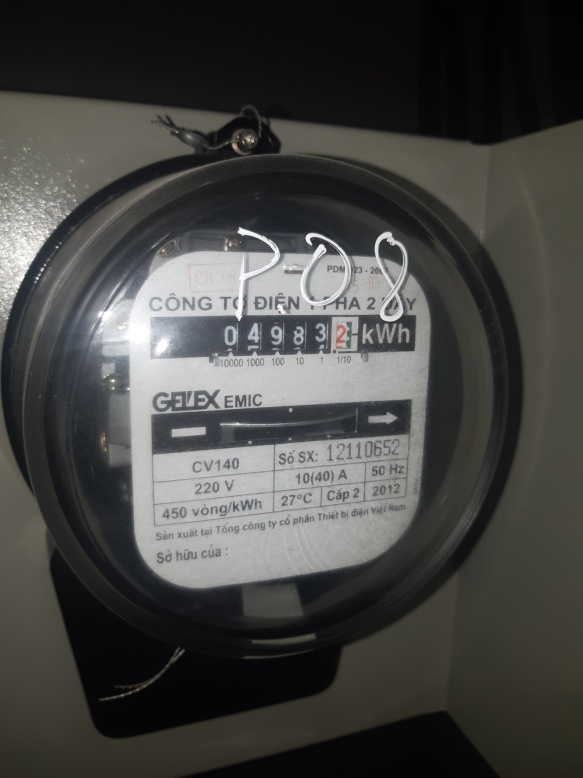counter: (148, 314, 415, 353)
electricity_meter: (25, 160, 523, 654)
